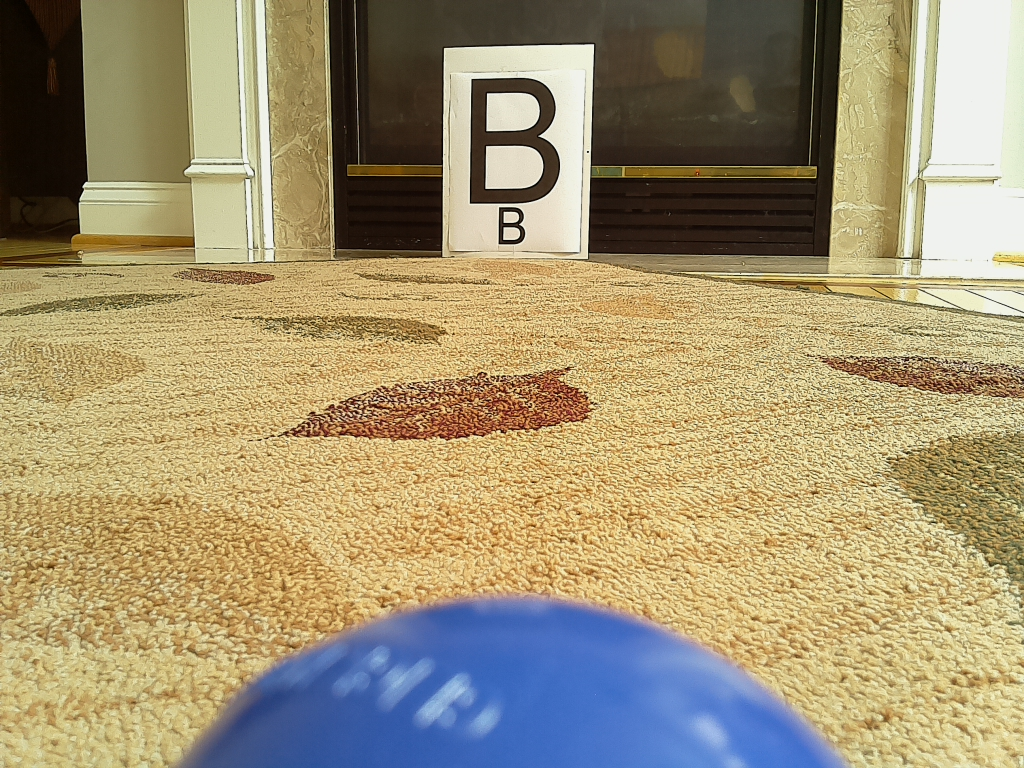letter: (467, 77, 561, 203)
